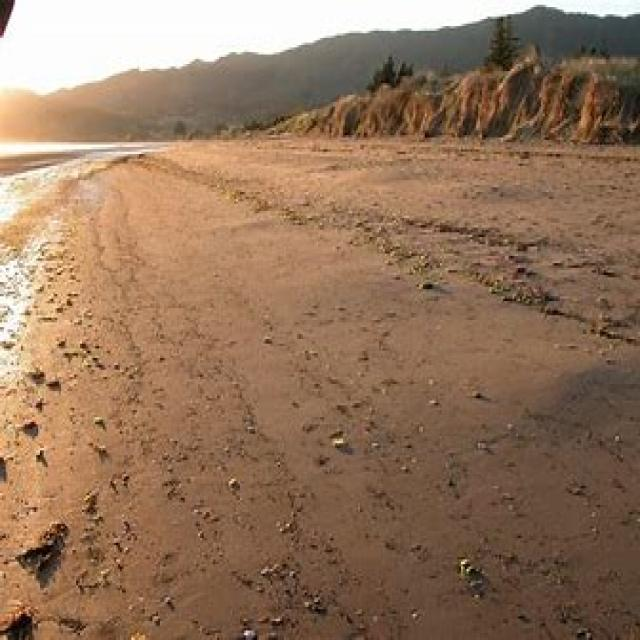Alluvial Soil: (111, 208, 582, 603)
